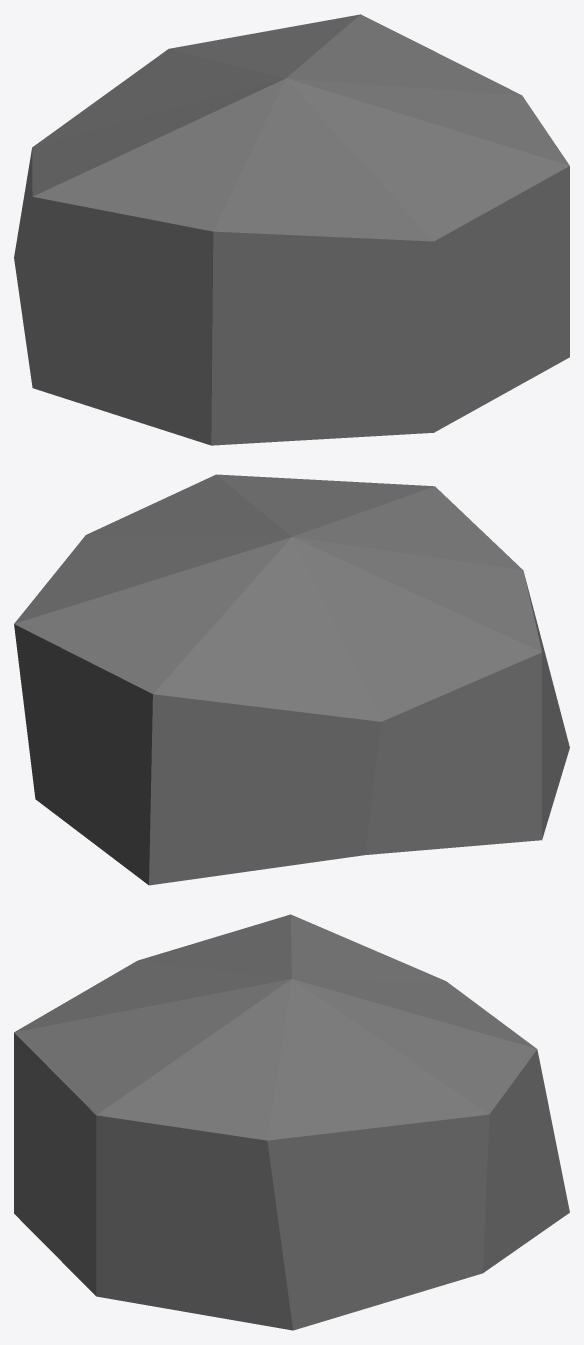
The model's file is Rock_05.fbx.
3 renders of one model, top to bottom at view 1: azimuth 30°, elevation 25°; view 2: azimuth 150°, elevation 25°; view 3: azimuth 270°, elevation 25°, orthographic. The views are drawn at different scales.
Visible parts, largest first — view 1: Rock_05; view 2: Rock_05; view 3: Rock_05.
Boxes of the visible parts, <box> form: Rock_05: <box>14,14,569,445</box>; Rock_05: <box>14,474,569,885</box>; Rock_05: <box>14,914,569,1330</box>.
Bounding box in the file's own units: 1.46 × 0.7722 × 1.46.
